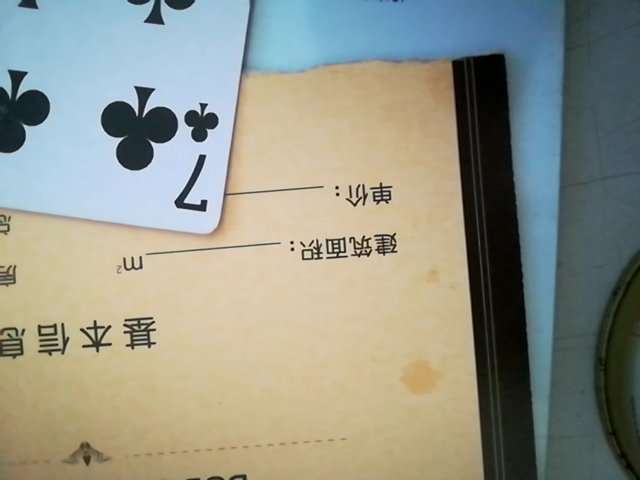mh 7: (0, 0, 275, 237)
